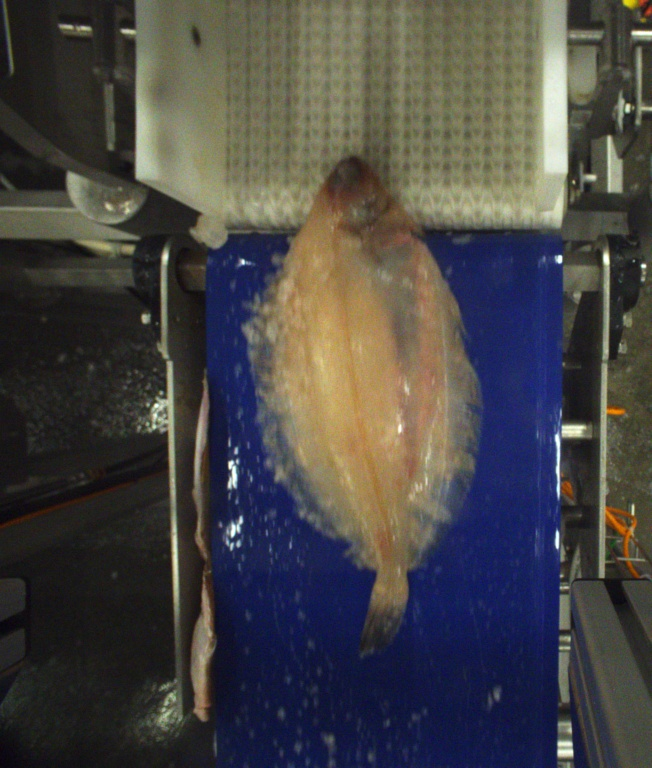WIT: (244, 154, 485, 658)
